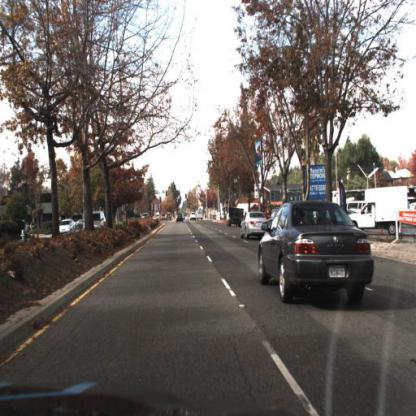car: (258, 198, 376, 309), (240, 209, 270, 240), (87, 207, 108, 234), (58, 215, 78, 240), (59, 218, 79, 236), (226, 208, 243, 229), (92, 209, 107, 230), (189, 211, 200, 228), (164, 212, 175, 226), (176, 213, 185, 226)
truck: (349, 186, 410, 235)
